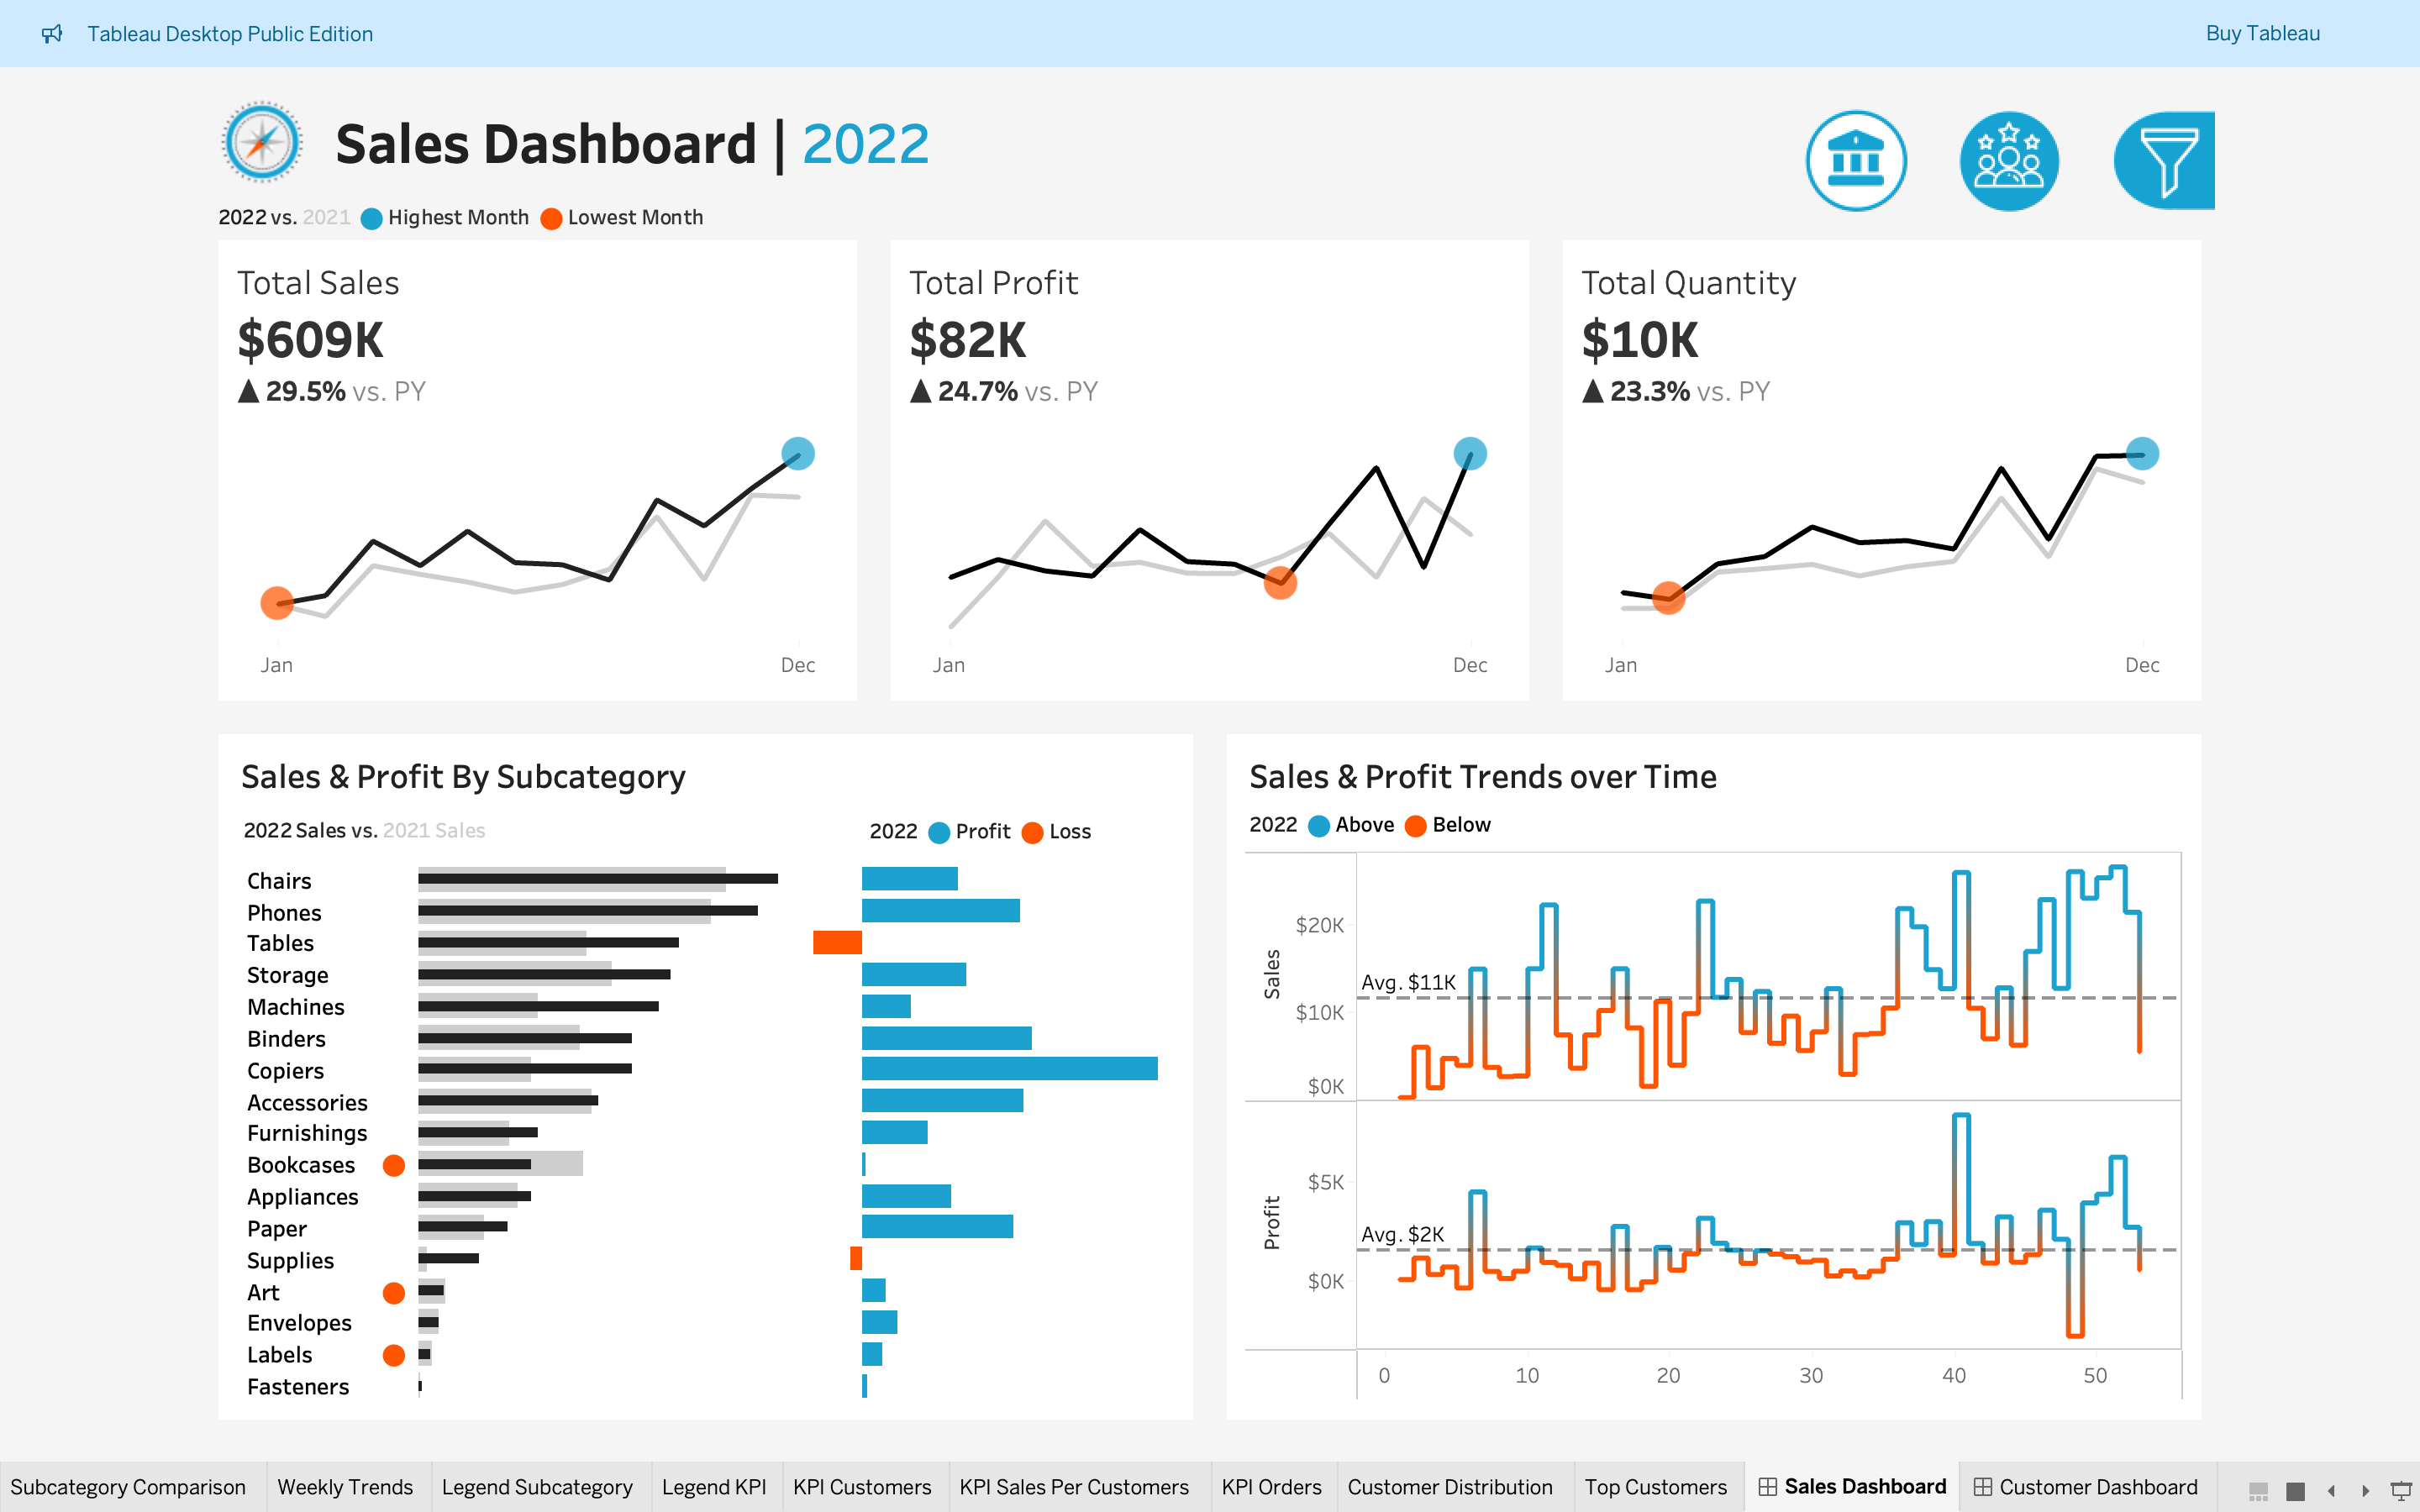

What the dashboard file says about the page in this screenshot:
{"tool":"tableau","page":{"name":"Sales Dashboard","canvas":[1200,800],"ordinal":1},"visuals":[{"type":"image","param":"Image/Icon - Logo.png","box":[0,0,73,59]},{"type":"text","box":[73,0,820,59]},{"type":"dashboard-object","box":[940,6,91,70]},{"type":"dashboard-object","box":[1031,6,91,70]},{"type":"blank","box":[952,10,237,86]},{"type":"worksheet","title":"Legend KPI","mark":"Automatic","box":[0,59,1200,29]},{"type":"worksheet","title":"KPI Sales","mark":"Automatic","rows":["Calculation_721701895347843083"],"cols":["Order Date"],"box":[0,88,400,284]},{"type":"worksheet","title":"KPI Profit","mark":"Automatic","rows":["Min/Max Sales (copy)_237846410425847814"],"cols":["Order Date"],"box":[400,88,400,284]},{"type":"worksheet","title":"KPI Quantity","mark":"Automatic","rows":["Min/Max Sales (copy) (copy)_237846410425856007"],"cols":["Order Date"],"box":[800,88,400,284]},{"type":"text","box":[952,96,237,34]},{"type":"parameter","param":"[Parameters].[Parameter 1]","box":[952,130,237,52]},{"type":"text","box":[952,182,237,29]},{"type":"filter","title":"KPI Sales","param":"[federated.1kpxa041aiai2y1cl4pui1t4eju9].[none:Category:nk]","box":[952,211,237,52]},{"type":"filter","title":"KPI Sales","param":"[federated.1kpxa041aiai2y1cl4pui1t4eju9].[none:Sub-Category:nk]","box":[952,263,237,52]},{"type":"blank","box":[952,315,237,60]},{"type":"text","box":[952,375,237,29]},{"type":"text","box":[17,389,566,34]},{"type":"text","box":[617,389,566,34]},{"type":"filter","title":"KPI Sales","param":"[federated.1kpxa041aiai2y1cl4pui1t4eju9].[none:Region:nk]","box":[952,404,237,52]},{"type":"worksheet","title":"Legend Subcategory","mark":"Automatic","box":[17,423,374,32]},{"type":"text","box":[391,423,192,32]},{"type":"text","box":[617,423,566,25]},{"type":"worksheet","title":"Weekly Trends","mark":"Automatic","rows":["Calculation_721701895334993921","CY Sales (copy)_237846410424180736"],"cols":["Order Date"],"box":[617,448,566,335]},{"type":"worksheet","title":"Subcategory Comparison","mark":"Bar","rows":["Sub-Category","Calculation_2435040078806671369"],"cols":["CY Sales (copy)_721701895335804930","Calculation_721701895334993921","CY Sales (copy)_237846410424180736"],"box":[17,455,566,327.9]},{"type":"filter","title":"KPI Sales","param":"[federated.1kpxa041aiai2y1cl4pui1t4eju9].[none:State:nk]","box":[952,456,237,52]},{"type":"filter","title":"KPI Sales","param":"[federated.1kpxa041aiai2y1cl4pui1t4eju9].[none:City:nk]","box":[952,508,237,52]}]}

Visuals, with their boxes on the page's 1200x800 design canvas (x1, y1, x2, y2). These are canvas units, not pixel positions in the 2420x1512 screenshot, which may show the page scaled, cropped or inside an application window:
image: [x1=0, y1=0, x2=73, y2=59]
text: [x1=73, y1=0, x2=893, y2=59]
dashboard-object: [x1=940, y1=6, x2=1031, y2=76]
dashboard-object: [x1=1031, y1=6, x2=1122, y2=76]
blank: [x1=952, y1=10, x2=1189, y2=96]
"Legend KPI" worksheet: [x1=0, y1=59, x2=1200, y2=88]
"KPI Sales" worksheet: [x1=0, y1=88, x2=400, y2=372]
"KPI Profit" worksheet: [x1=400, y1=88, x2=800, y2=372]
"KPI Quantity" worksheet: [x1=800, y1=88, x2=1200, y2=372]
text: [x1=952, y1=96, x2=1189, y2=130]
parameter: [x1=952, y1=130, x2=1189, y2=182]
text: [x1=952, y1=182, x2=1189, y2=211]
"KPI Sales" filter: [x1=952, y1=211, x2=1189, y2=263]
"KPI Sales" filter: [x1=952, y1=263, x2=1189, y2=315]
blank: [x1=952, y1=315, x2=1189, y2=375]
text: [x1=952, y1=375, x2=1189, y2=404]
text: [x1=17, y1=389, x2=583, y2=423]
text: [x1=617, y1=389, x2=1183, y2=423]
"KPI Sales" filter: [x1=952, y1=404, x2=1189, y2=456]
"Legend Subcategory" worksheet: [x1=17, y1=423, x2=391, y2=455]
text: [x1=391, y1=423, x2=583, y2=455]
text: [x1=617, y1=423, x2=1183, y2=448]
"Weekly Trends" worksheet: [x1=617, y1=448, x2=1183, y2=783]
"Subcategory Comparison" worksheet (Bar marks): [x1=17, y1=455, x2=583, y2=783]
"KPI Sales" filter: [x1=952, y1=456, x2=1189, y2=508]
"KPI Sales" filter: [x1=952, y1=508, x2=1189, y2=560]
